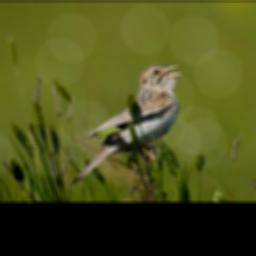Sparrow: (73, 63, 184, 184)
